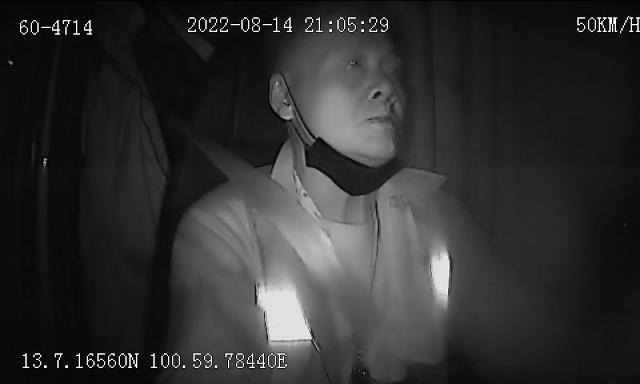Seatbelt: (190, 130, 364, 314)
